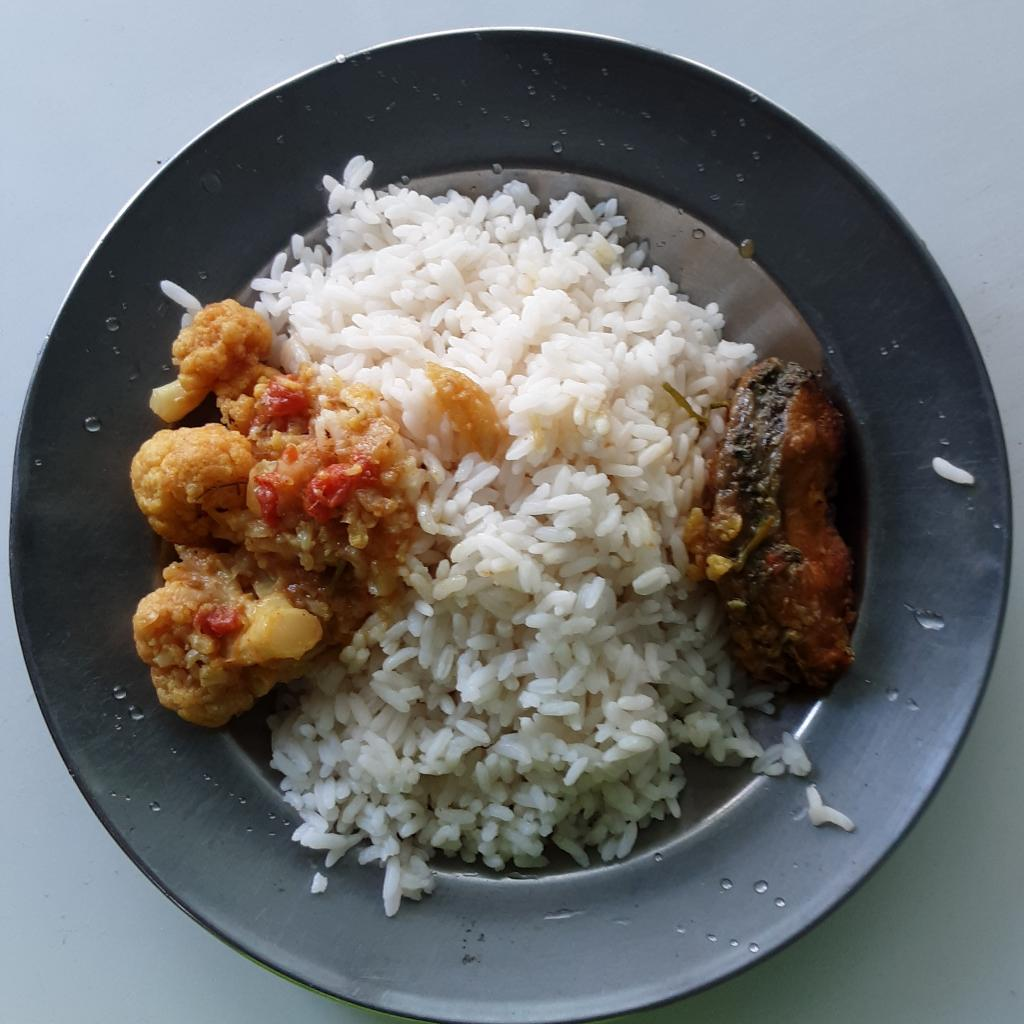cauliflower: (129, 308, 372, 735)
fish: (684, 357, 858, 683)
rice: (251, 151, 809, 911), (804, 782, 852, 829), (163, 272, 206, 312)
